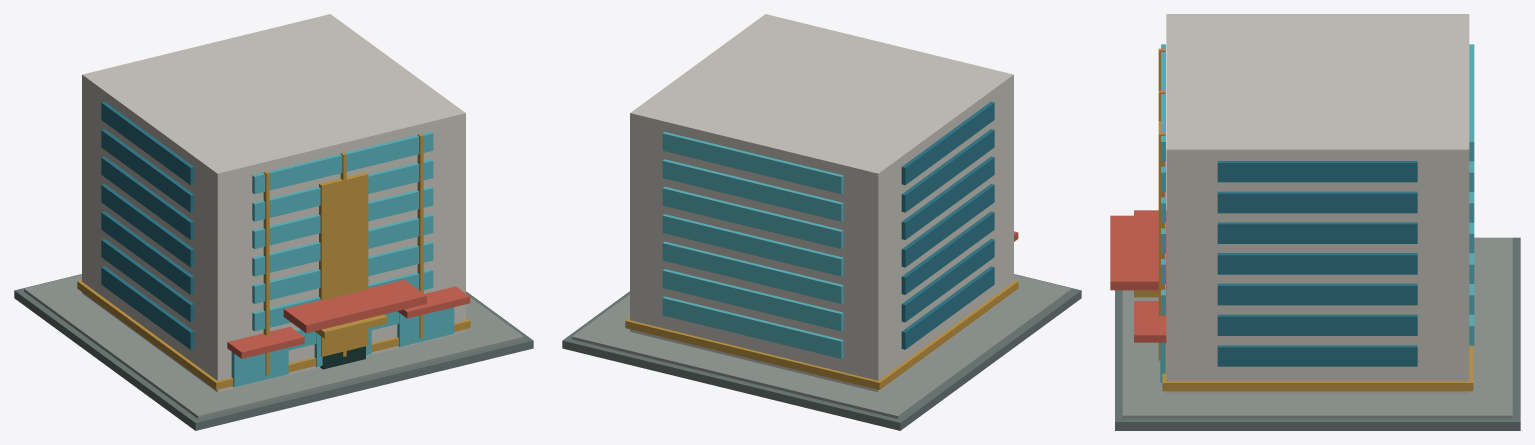
File: hotel_lv1.glb
The picture shows the model from 3 angles, left to right: view 1: azimuth 30°, elevation 25°; view 2: azimuth 150°, elevation 25°; view 3: azimuth 270°, elevation 25°; orthographic projection. The views are drawn at different scales.
Parts seen in each view (by area): view 1: rough, glossy; view 2: rough, glossy; view 3: rough, glossy.
Boxes of the visible parts, x1,y1,x2,y2 form: rough: (14, 14, 533, 430); glossy: (101, 101, 454, 387); rough: (562, 14, 1081, 430); glossy: (662, 101, 994, 358); rough: (1110, 14, 1520, 430); glossy: (1160, 44, 1474, 382).
Bounding box in the file's own units: 9.8 × 6.36 × 9.2.
